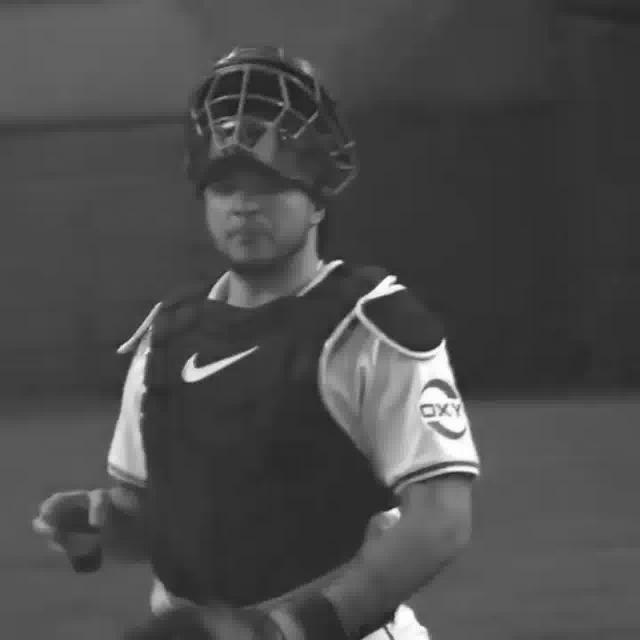baseball_glove: (129, 605, 284, 640)
